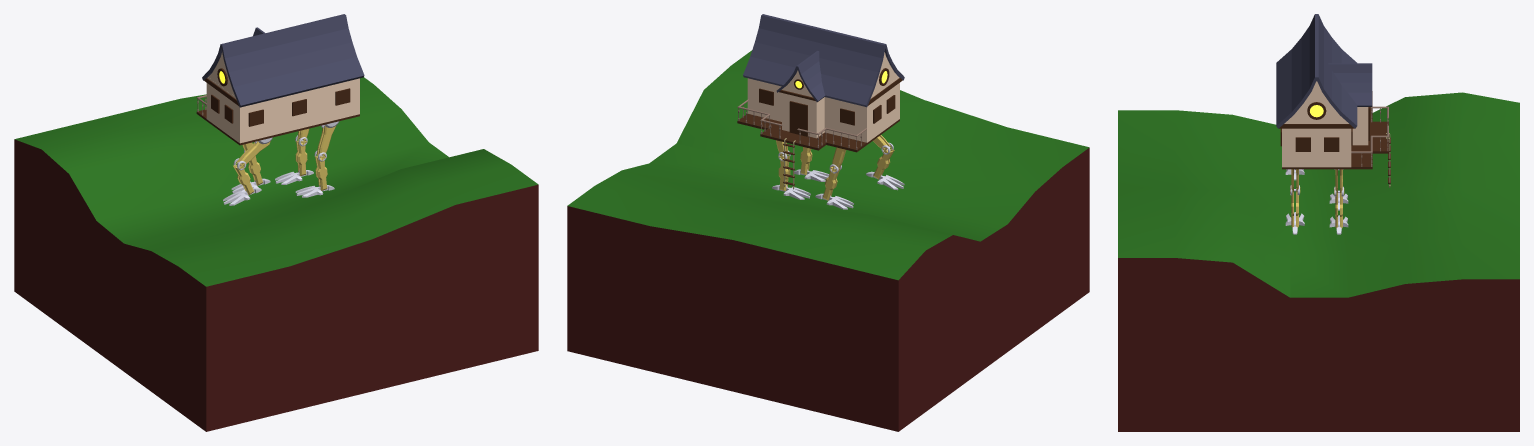
File: WalkingHouse.glb
3 views of the same model, side by side, from view 1: azimuth 30°, elevation 25°; view 2: azimuth 150°, elevation 25°; view 3: azimuth 270°, elevation 25° (orthographic). The views are drawn at different scales.
Visible parts, largest first — view 1: Cube.029, Cube.001, Cube, Cube.009, Cube.005; view 2: Cube.029, Cube.001, Cube, Cube.005, Cube.004, Cube.006; view 3: Cube.029, Cube.001, Cube, Cube.004, Cube.005, Cube.007.
Boxes of the visible parts, bbox=[...] form: Cube.029: bbox=[14, 77, 538, 431]; Cube.001: bbox=[202, 14, 364, 107]; Cube: bbox=[206, 77, 359, 143]; Cube.009: bbox=[248, 88, 350, 126]; Cube.005: bbox=[196, 109, 359, 145]; Cube.029: bbox=[567, 50, 1089, 431]; Cube.001: bbox=[743, 14, 904, 107]; Cube: bbox=[747, 77, 899, 142]; Cube.005: bbox=[737, 113, 899, 152]; Cube.004: bbox=[776, 51, 825, 102]; Cube.006: bbox=[789, 101, 807, 136]; Cube.029: bbox=[1118, 92, 1519, 431]; Cube.001: bbox=[1276, 14, 1357, 128]; Cube: bbox=[1282, 107, 1368, 167]; Cube.004: bbox=[1328, 63, 1372, 106]; Cube.005: bbox=[1282, 107, 1388, 169]; Cube.007: bbox=[1295, 137, 1339, 151].
Bounding box in the file's own units: 5.43 × 4.54 × 5.43.
